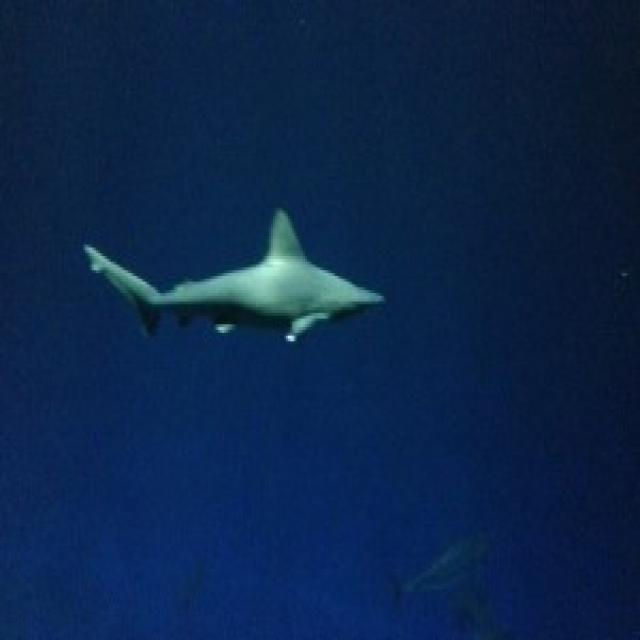Shark: (78, 194, 394, 358)
